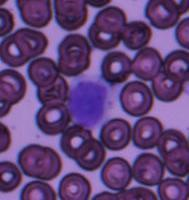L: (67, 75, 114, 128)
